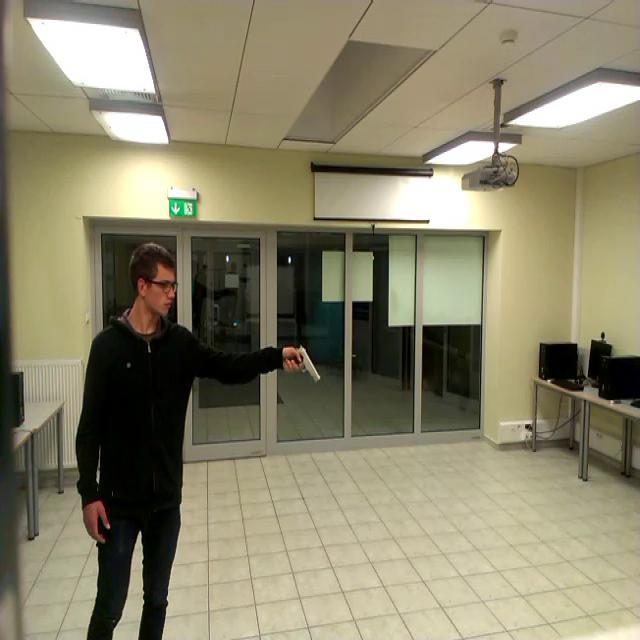Gun: (286, 344, 322, 382)
